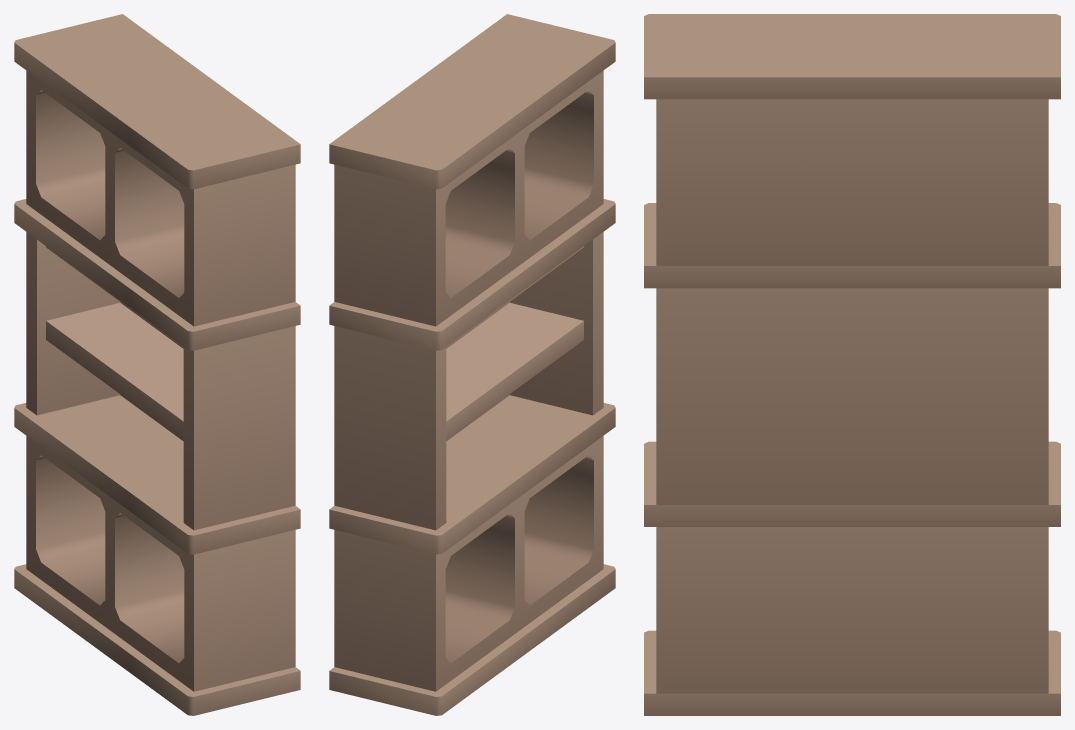
File: cabinet-bookcase-classic-doors-top.glb
The picture shows the model from 3 angles, left to right: view 1: azimuth 30°, elevation 25°; view 2: azimuth 150°, elevation 25°; view 3: azimuth 270°, elevation 25°; orthographic projection. The views are drawn at different scales.
Parts seen in each view (by area): view 1: cabinet-bookcase-classic-doors-top; view 2: cabinet-bookcase-classic-doors-top; view 3: cabinet-bookcase-classic-doors-top.
Boxes of the visible parts, x1,y1,x2,y2 form: cabinet-bookcase-classic-doors-top: (14, 14, 300, 715); cabinet-bookcase-classic-doors-top: (329, 14, 615, 715); cabinet-bookcase-classic-doors-top: (644, 14, 1060, 715).
Bounding box in the file's own units: 0.305 × 1.44 × 0.85.
